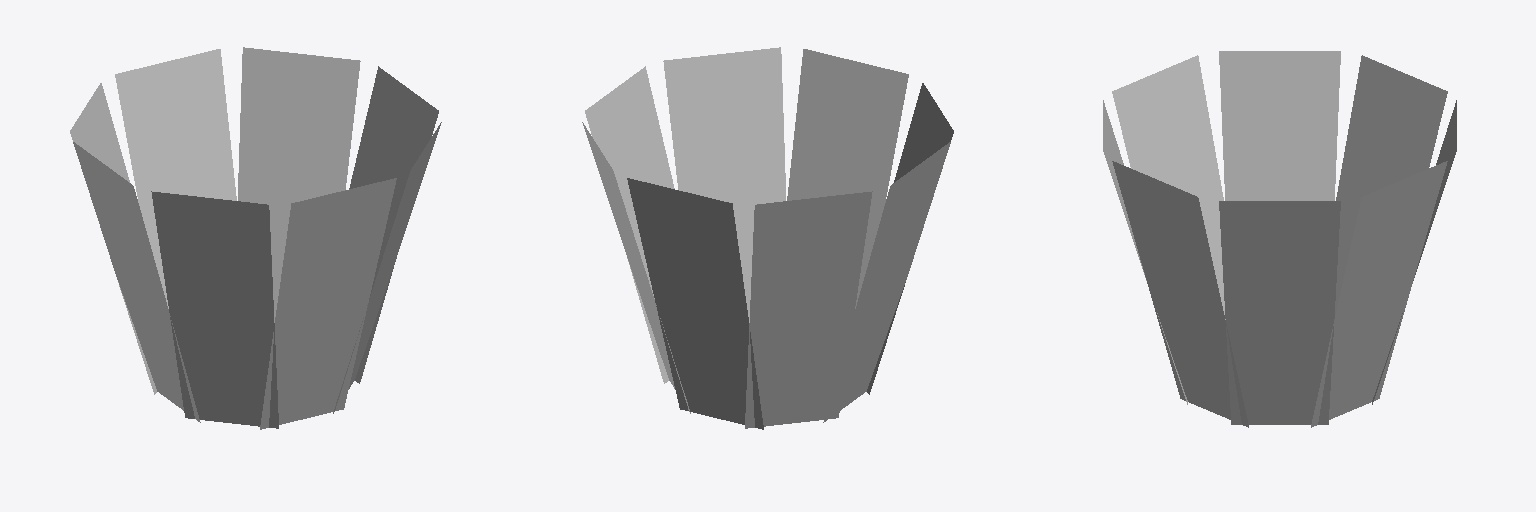
File: vidro.obj
3 renders of one model, left to right at view 1: azimuth 30°, elevation 25°; view 2: azimuth 150°, elevation 25°; view 3: azimuth 270°, elevation 25°, orthographic.
Visible parts, largest first — view 1: Plane.001; view 2: Plane.001; view 3: Plane.001.
Boxes of the visible parts, x1,y1,x2,y2 form: Plane.001: [70, 47, 441, 429]; Plane.001: [582, 47, 953, 429]; Plane.001: [1103, 51, 1456, 427].
Size of the model in its own units: 1.96 by 1.59 by 1.96.